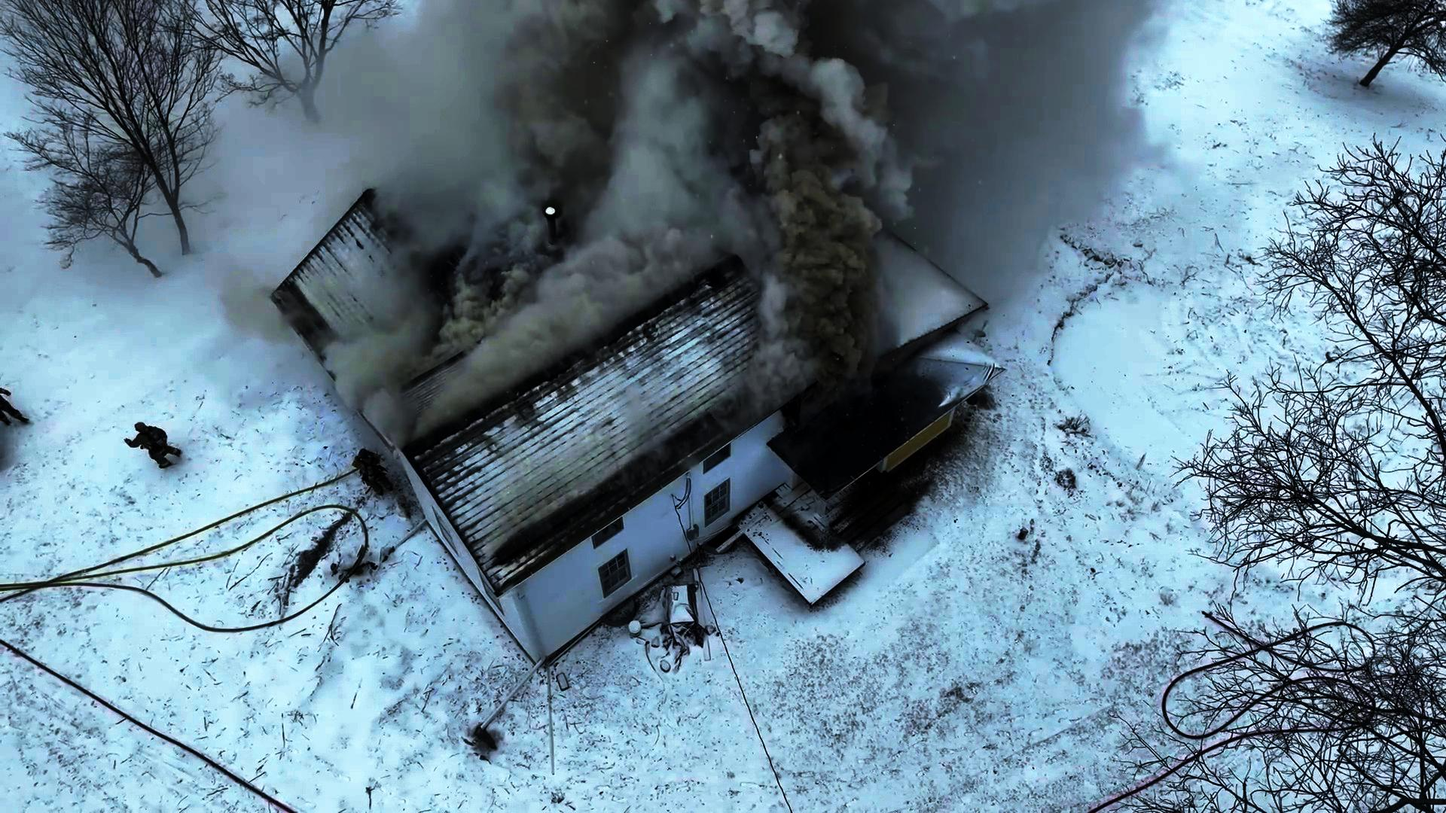smoke: (731, 113, 895, 414)
